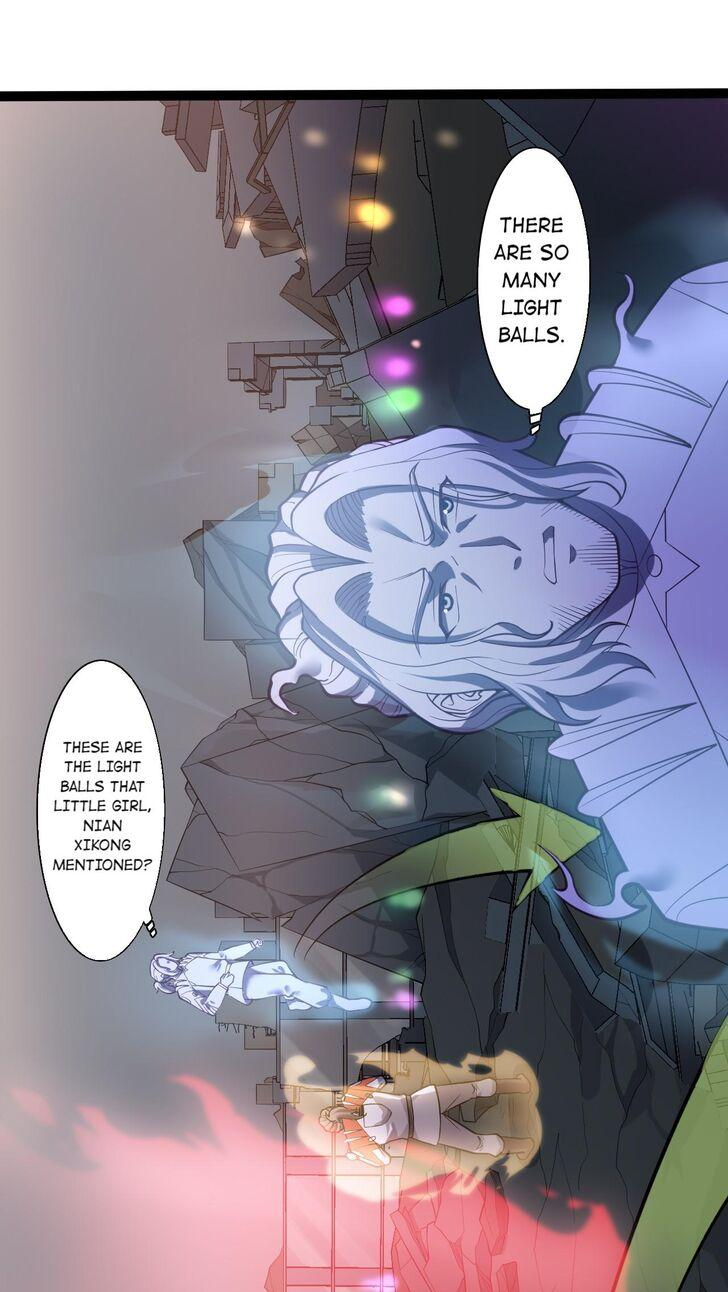Bubble: (33, 654, 171, 967), (473, 140, 596, 417)
